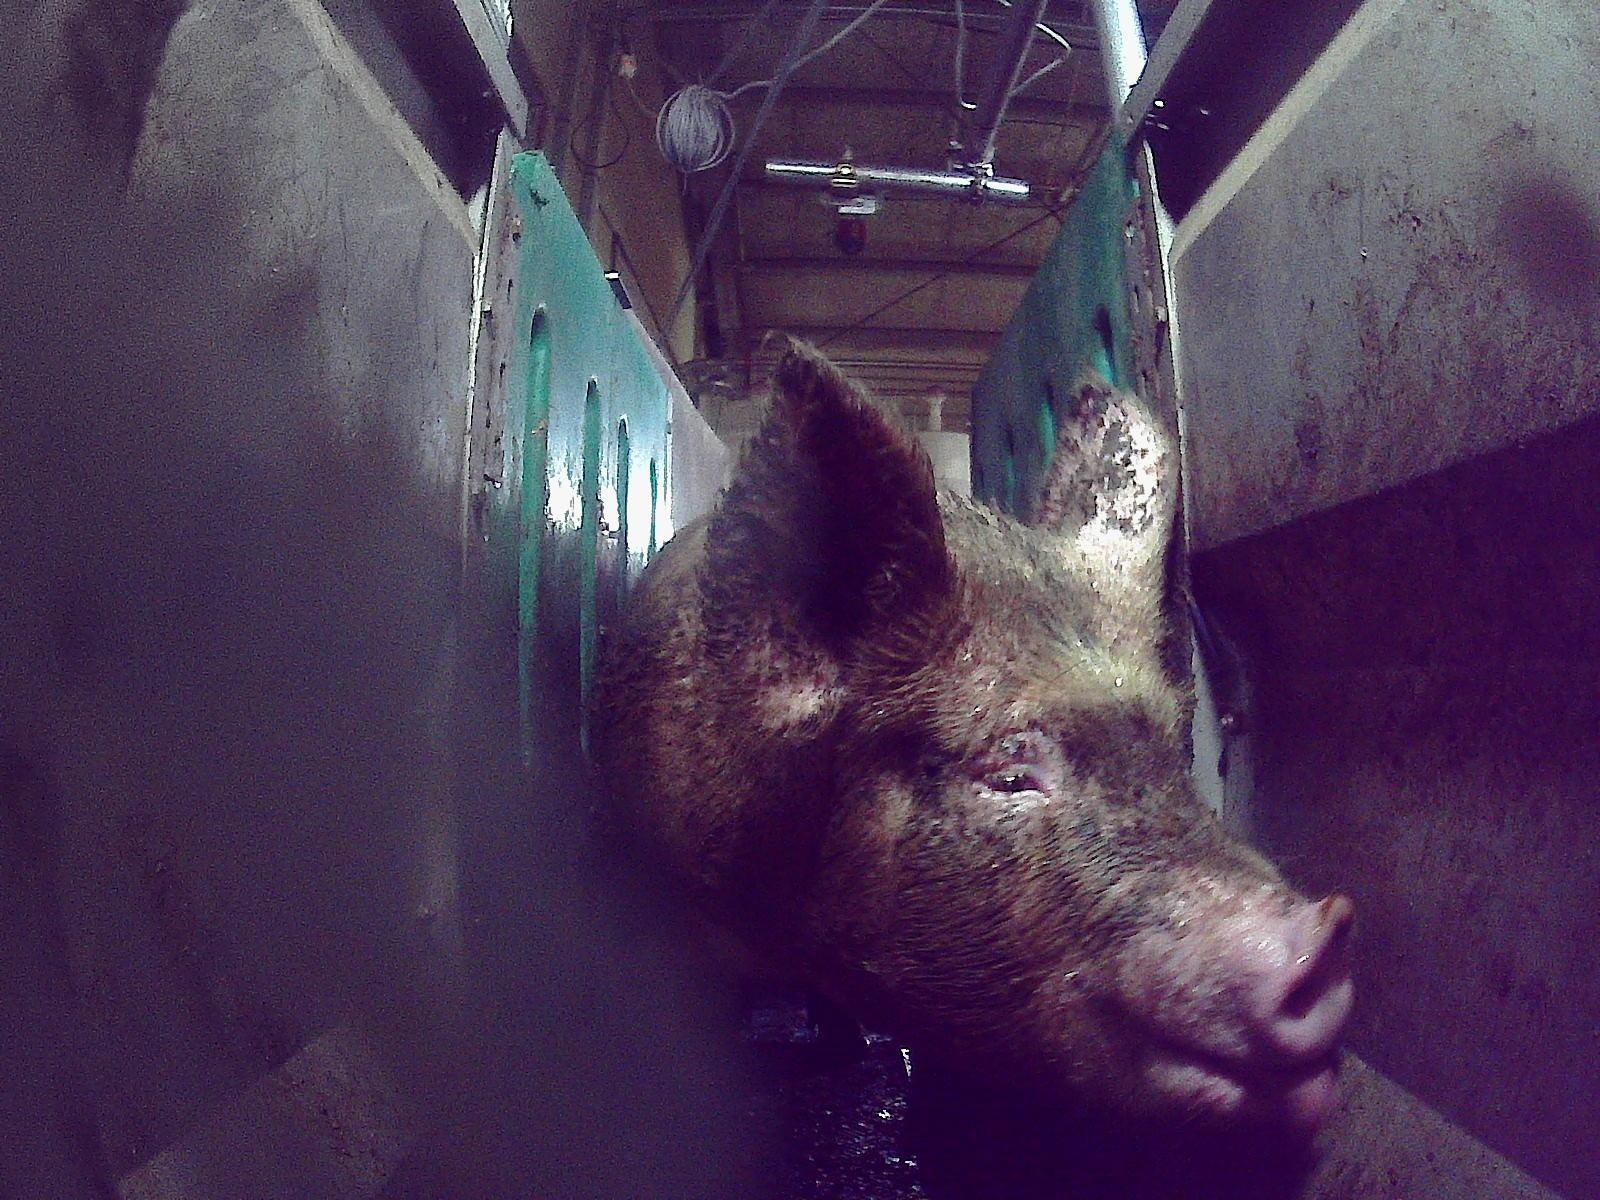Face: (769, 523, 1353, 1140)
